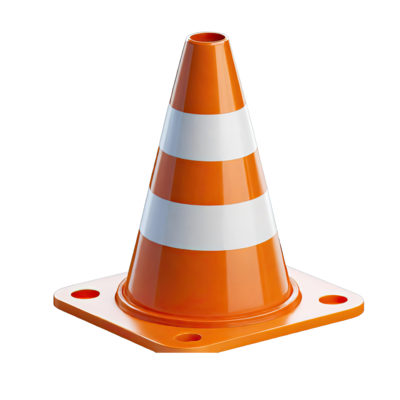Road_cone: (54, 30, 364, 349)
